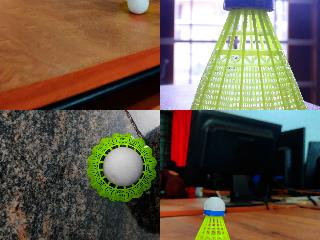shuttlecock: (186, 0, 309, 109), (86, 133, 156, 201), (186, 196, 239, 239), (116, 0, 159, 14)
